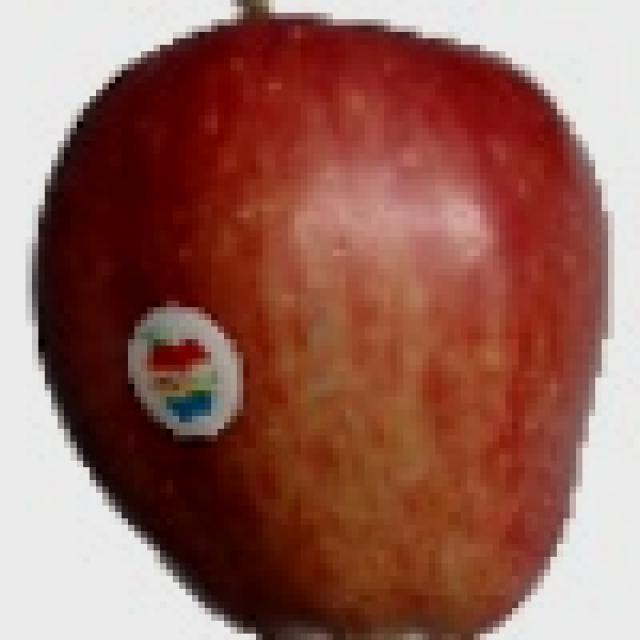apple: (28, 14, 610, 638)
